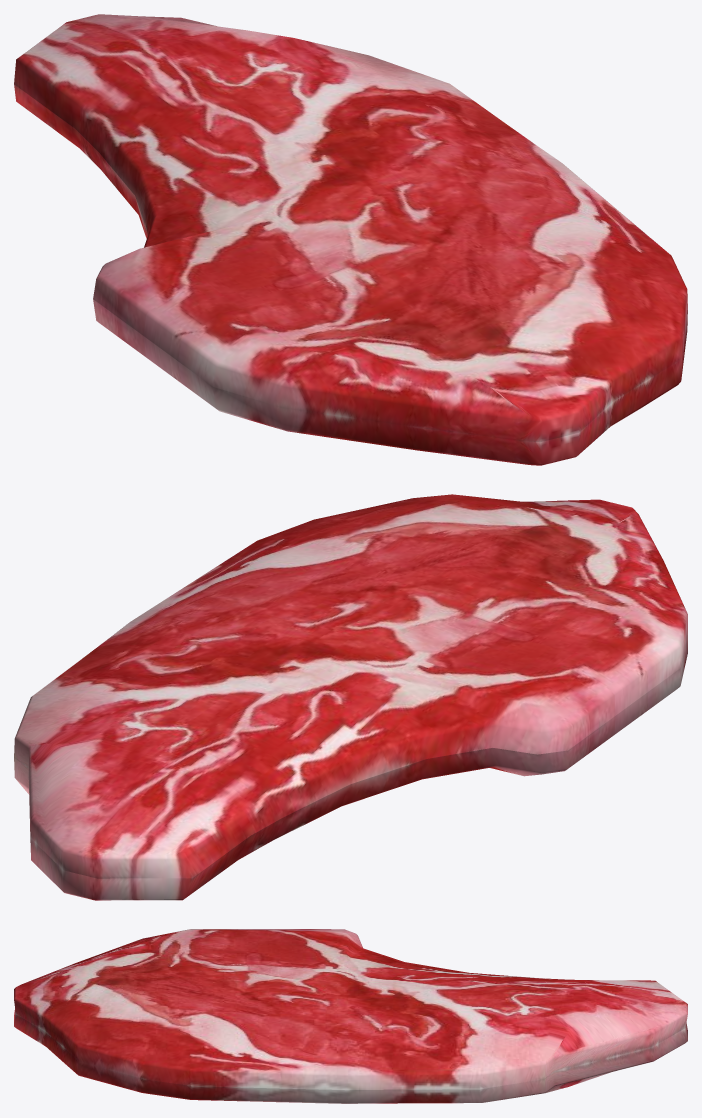
File: MEAT.FBX
3 renders of one model, top to bottom at view 1: azimuth 30°, elevation 25°; view 2: azimuth 150°, elevation 25°; view 3: azimuth 270°, elevation 25°, orthographic. The views are drawn at different scales.
Visible parts, largest first — view 1: Plane001; view 2: Plane001; view 3: Plane001.
Part boxes in pixels (x1,y1,x2,y2): Plane001: [14, 14, 687, 465]; Plane001: [14, 494, 687, 900]; Plane001: [14, 929, 687, 1103].
Bounding box in the file's own units: 9.23 × 17.88 × 1.89.
